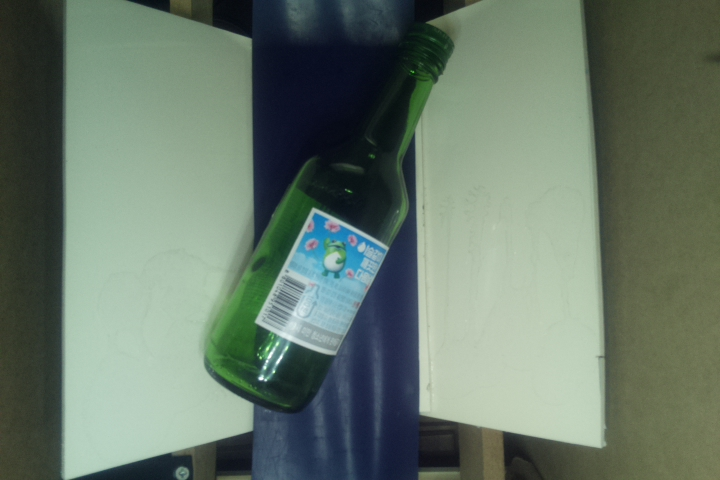soju: (203, 21, 458, 414)
